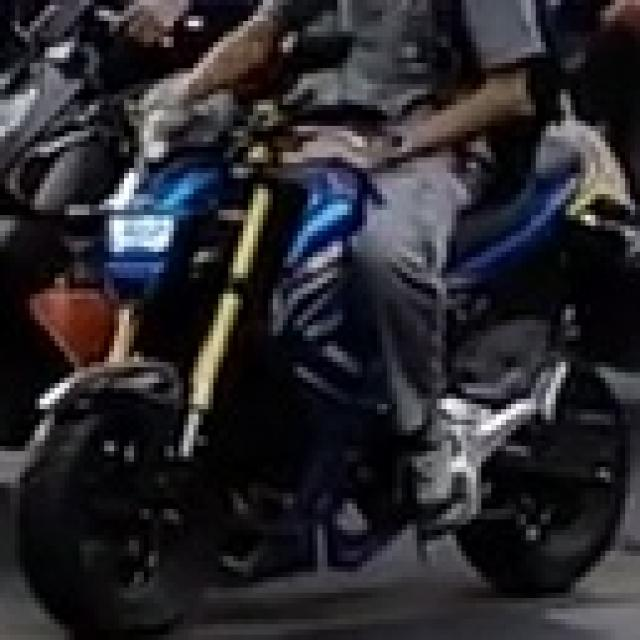tyre: (452, 357, 630, 593)
